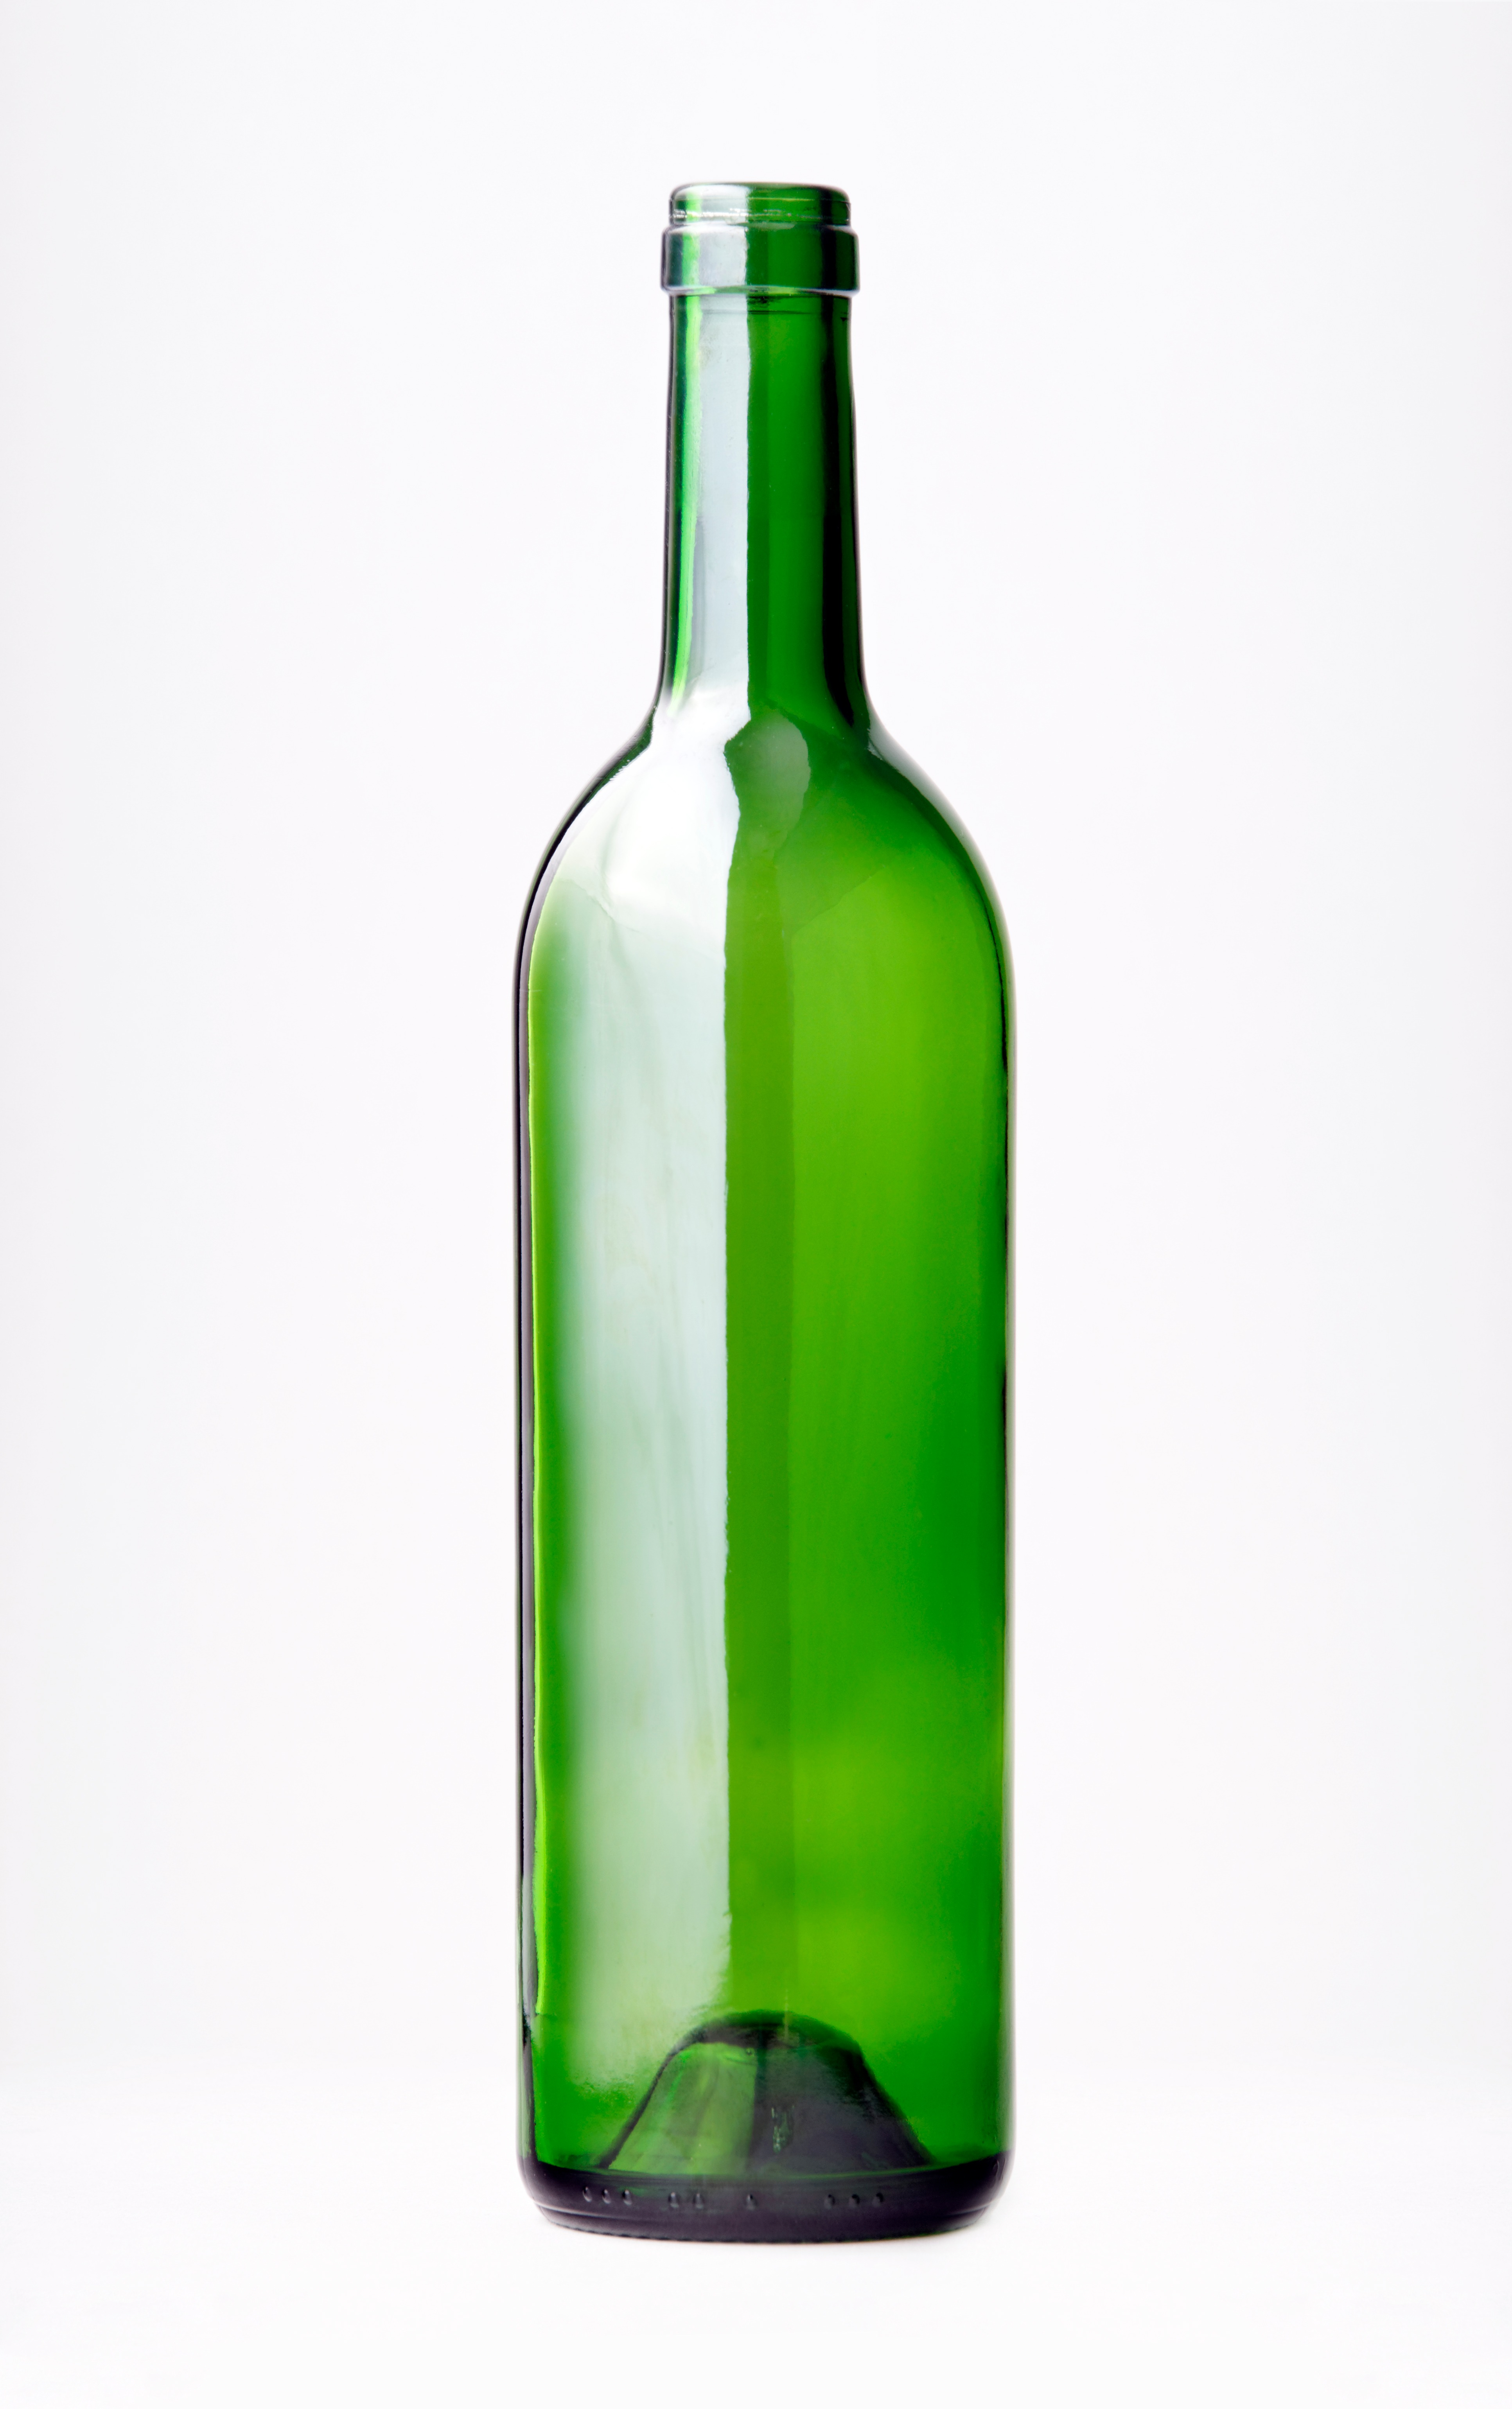container: (474, 165, 1075, 2266)
